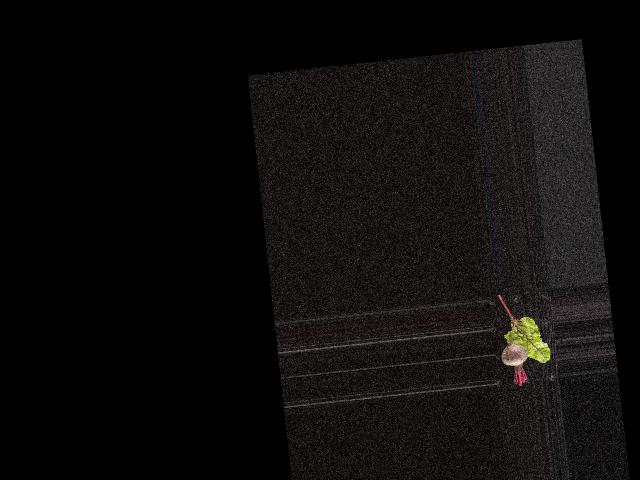beet: (497, 318, 531, 388)
